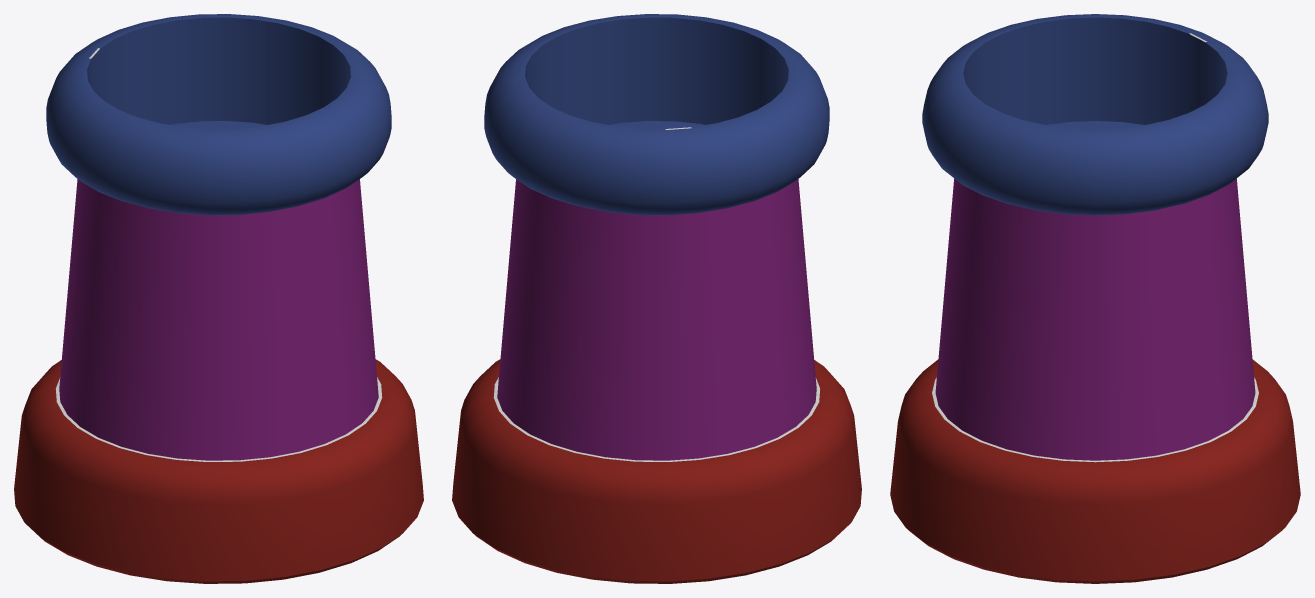
Rendered from Pot_Style_01.fbx.
3 views of the same model, side by side, from view 1: azimuth 30°, elevation 25°; view 2: azimuth 150°, elevation 25°; view 3: azimuth 270°, elevation 25° (orthographic).
Parts seen in each view (by area): view 1: SetA_Pot_Style_01; view 2: SetA_Pot_Style_01; view 3: SetA_Pot_Style_01.
Part boxes in pixels (<box>): SetA_Pot_Style_01: <box>14,14,423,583</box>; SetA_Pot_Style_01: <box>452,14,861,583</box>; SetA_Pot_Style_01: <box>890,14,1300,583</box>.
Bounding box in the file's own units: 0.2693 × 0.3081 × 0.2693.
